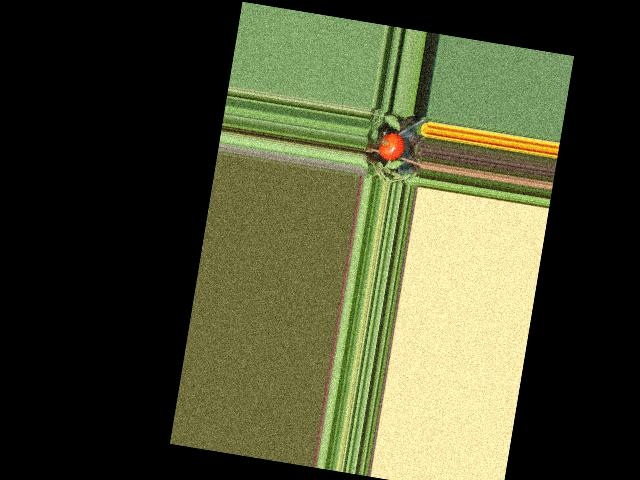tomato: (377, 131, 406, 163)
